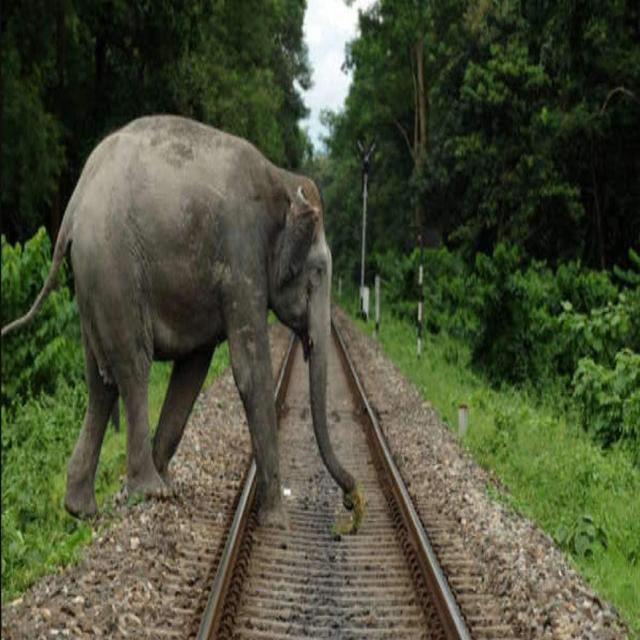Elephant: (28, 95, 380, 547)
